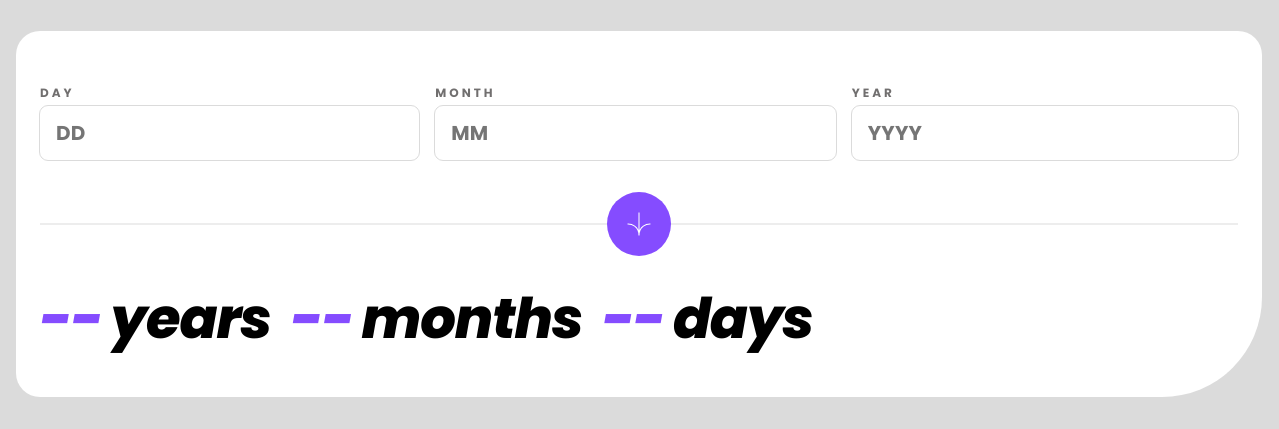
Test: App component › should show error when month is over 12
Step 1. Type "13" into the field with test id "input" showing "MM" → (635, 133), box x1=435 y1=106 x2=836 y2=160
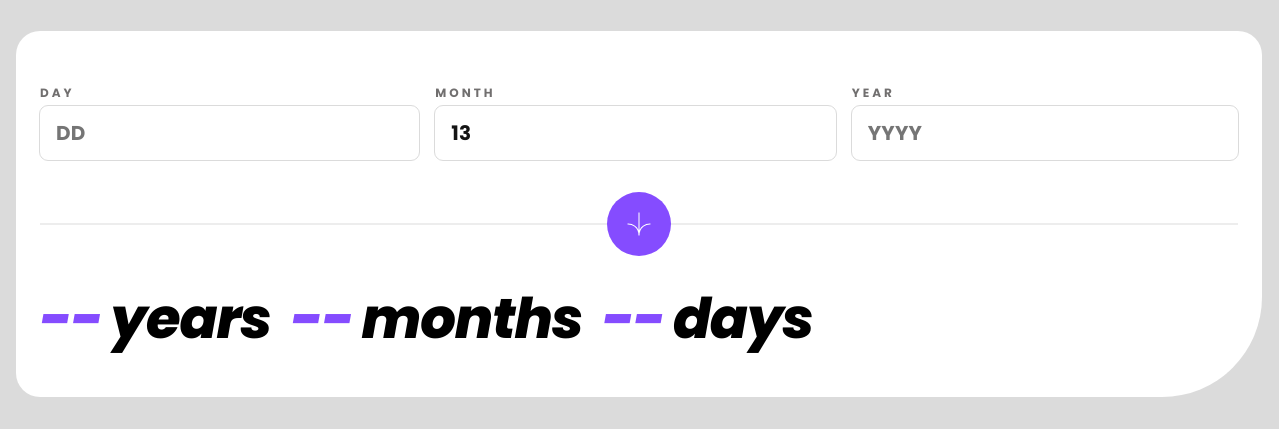
Step 2. Click the element with test id "submit" → (639, 224), box x1=607 y1=192 x2=671 y2=256
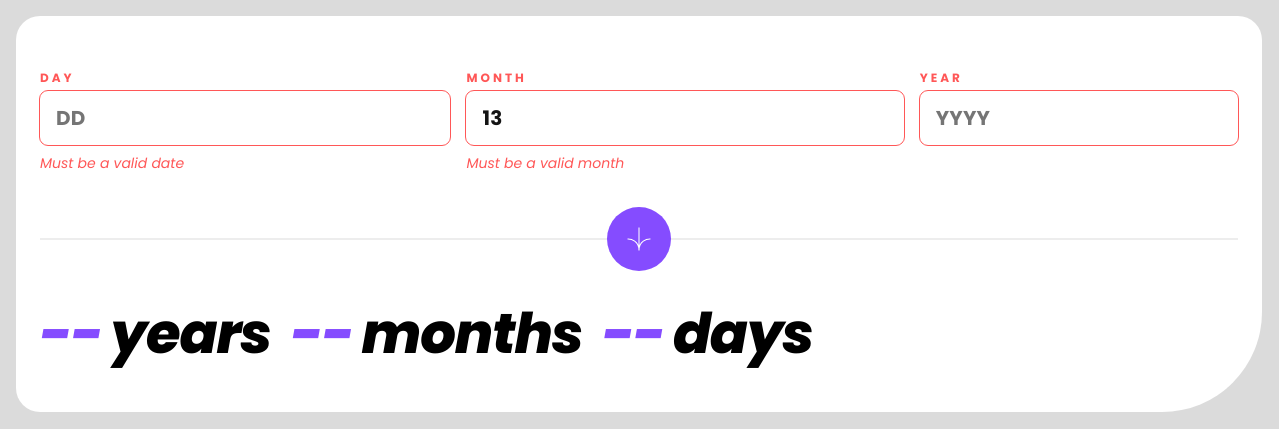
Expected: the text "Must be a valid month" is shown, x1=466 y1=153 x2=624 y2=174
